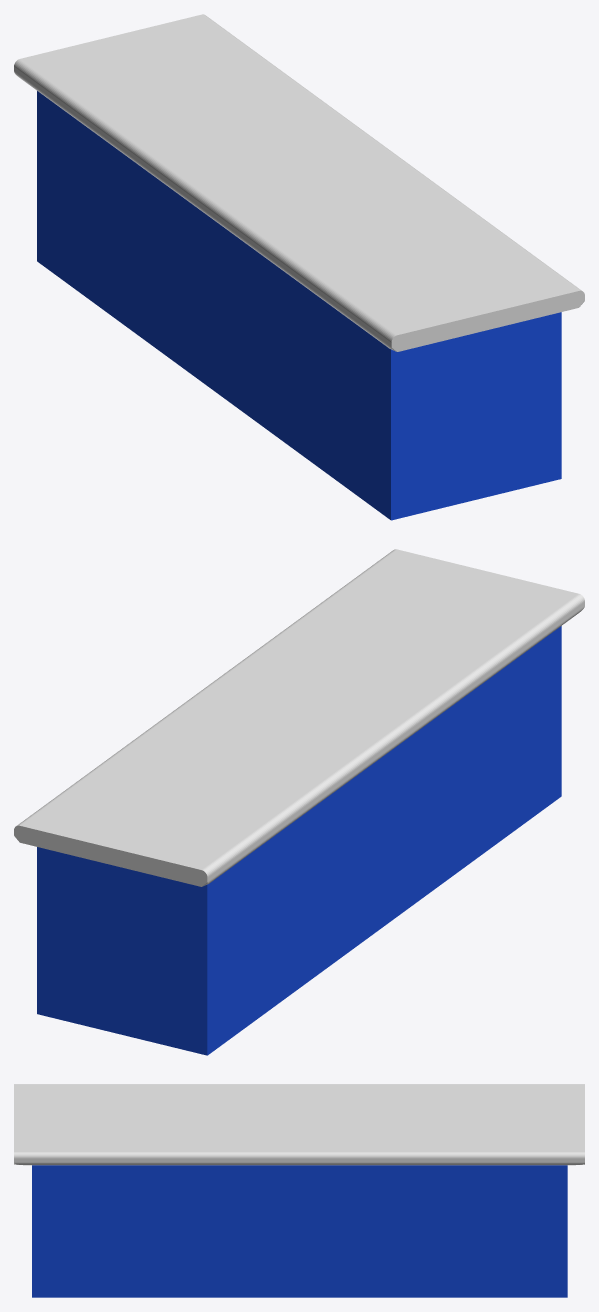
The model's file is basamak.fbx.
3 renders of one model, top to bottom at view 1: azimuth 30°, elevation 25°; view 2: azimuth 150°, elevation 25°; view 3: azimuth 270°, elevation 25°, orthographic. The views are drawn at different scales.
Parts seen in each view (by area): view 1: Cube.001; view 2: Cube.001; view 3: Cube.001.
Boxes of the visible parts, x1,y1,x2,y2 form: Cube.001: [14, 14, 584, 520]; Cube.001: [14, 549, 584, 1055]; Cube.001: [14, 1084, 584, 1297].
Bounding box in the file's own units: 2.27 × 2.19 × 7.67.
